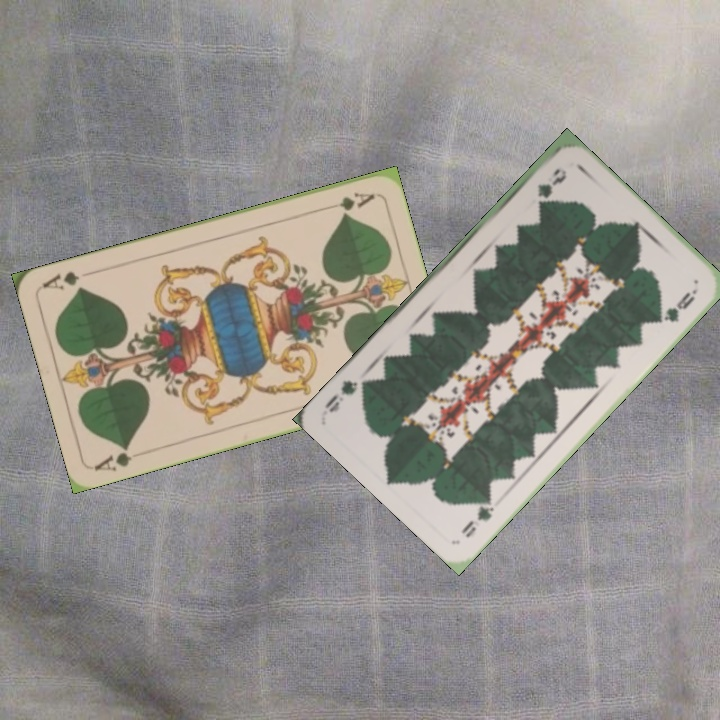G9: (456, 491, 497, 541), (533, 163, 570, 200)
GA: (320, 188, 377, 216), (91, 441, 135, 474)
